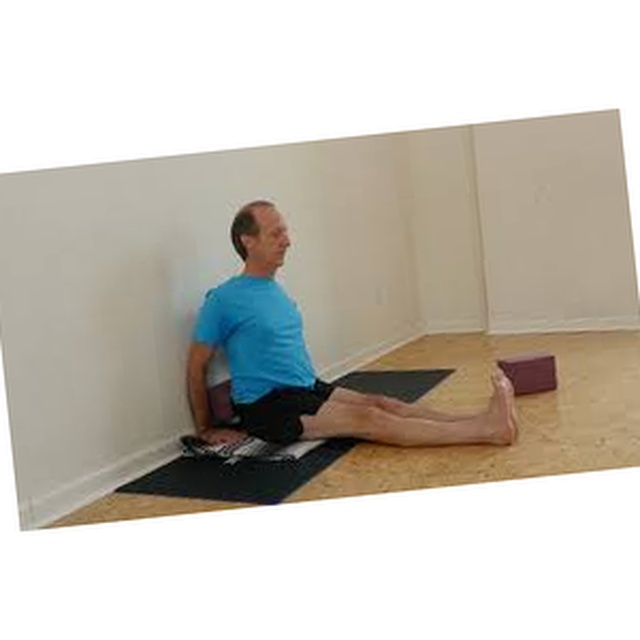Staff_Pose: (186, 200, 522, 447)
